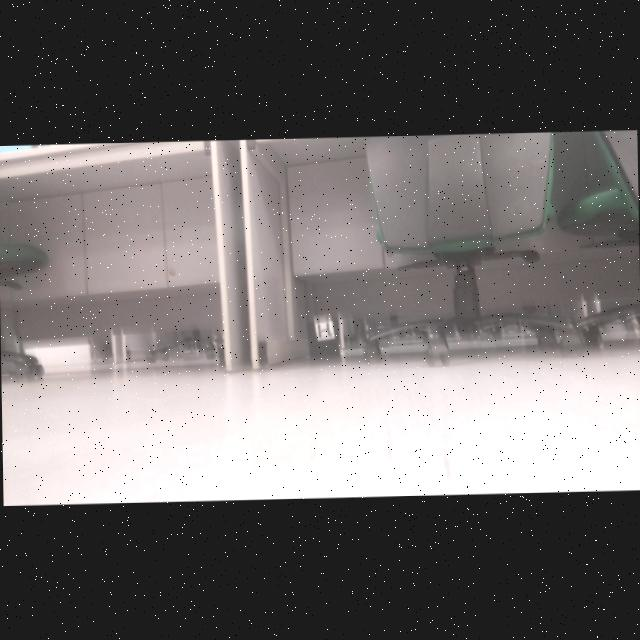H: (318, 323, 330, 338)
